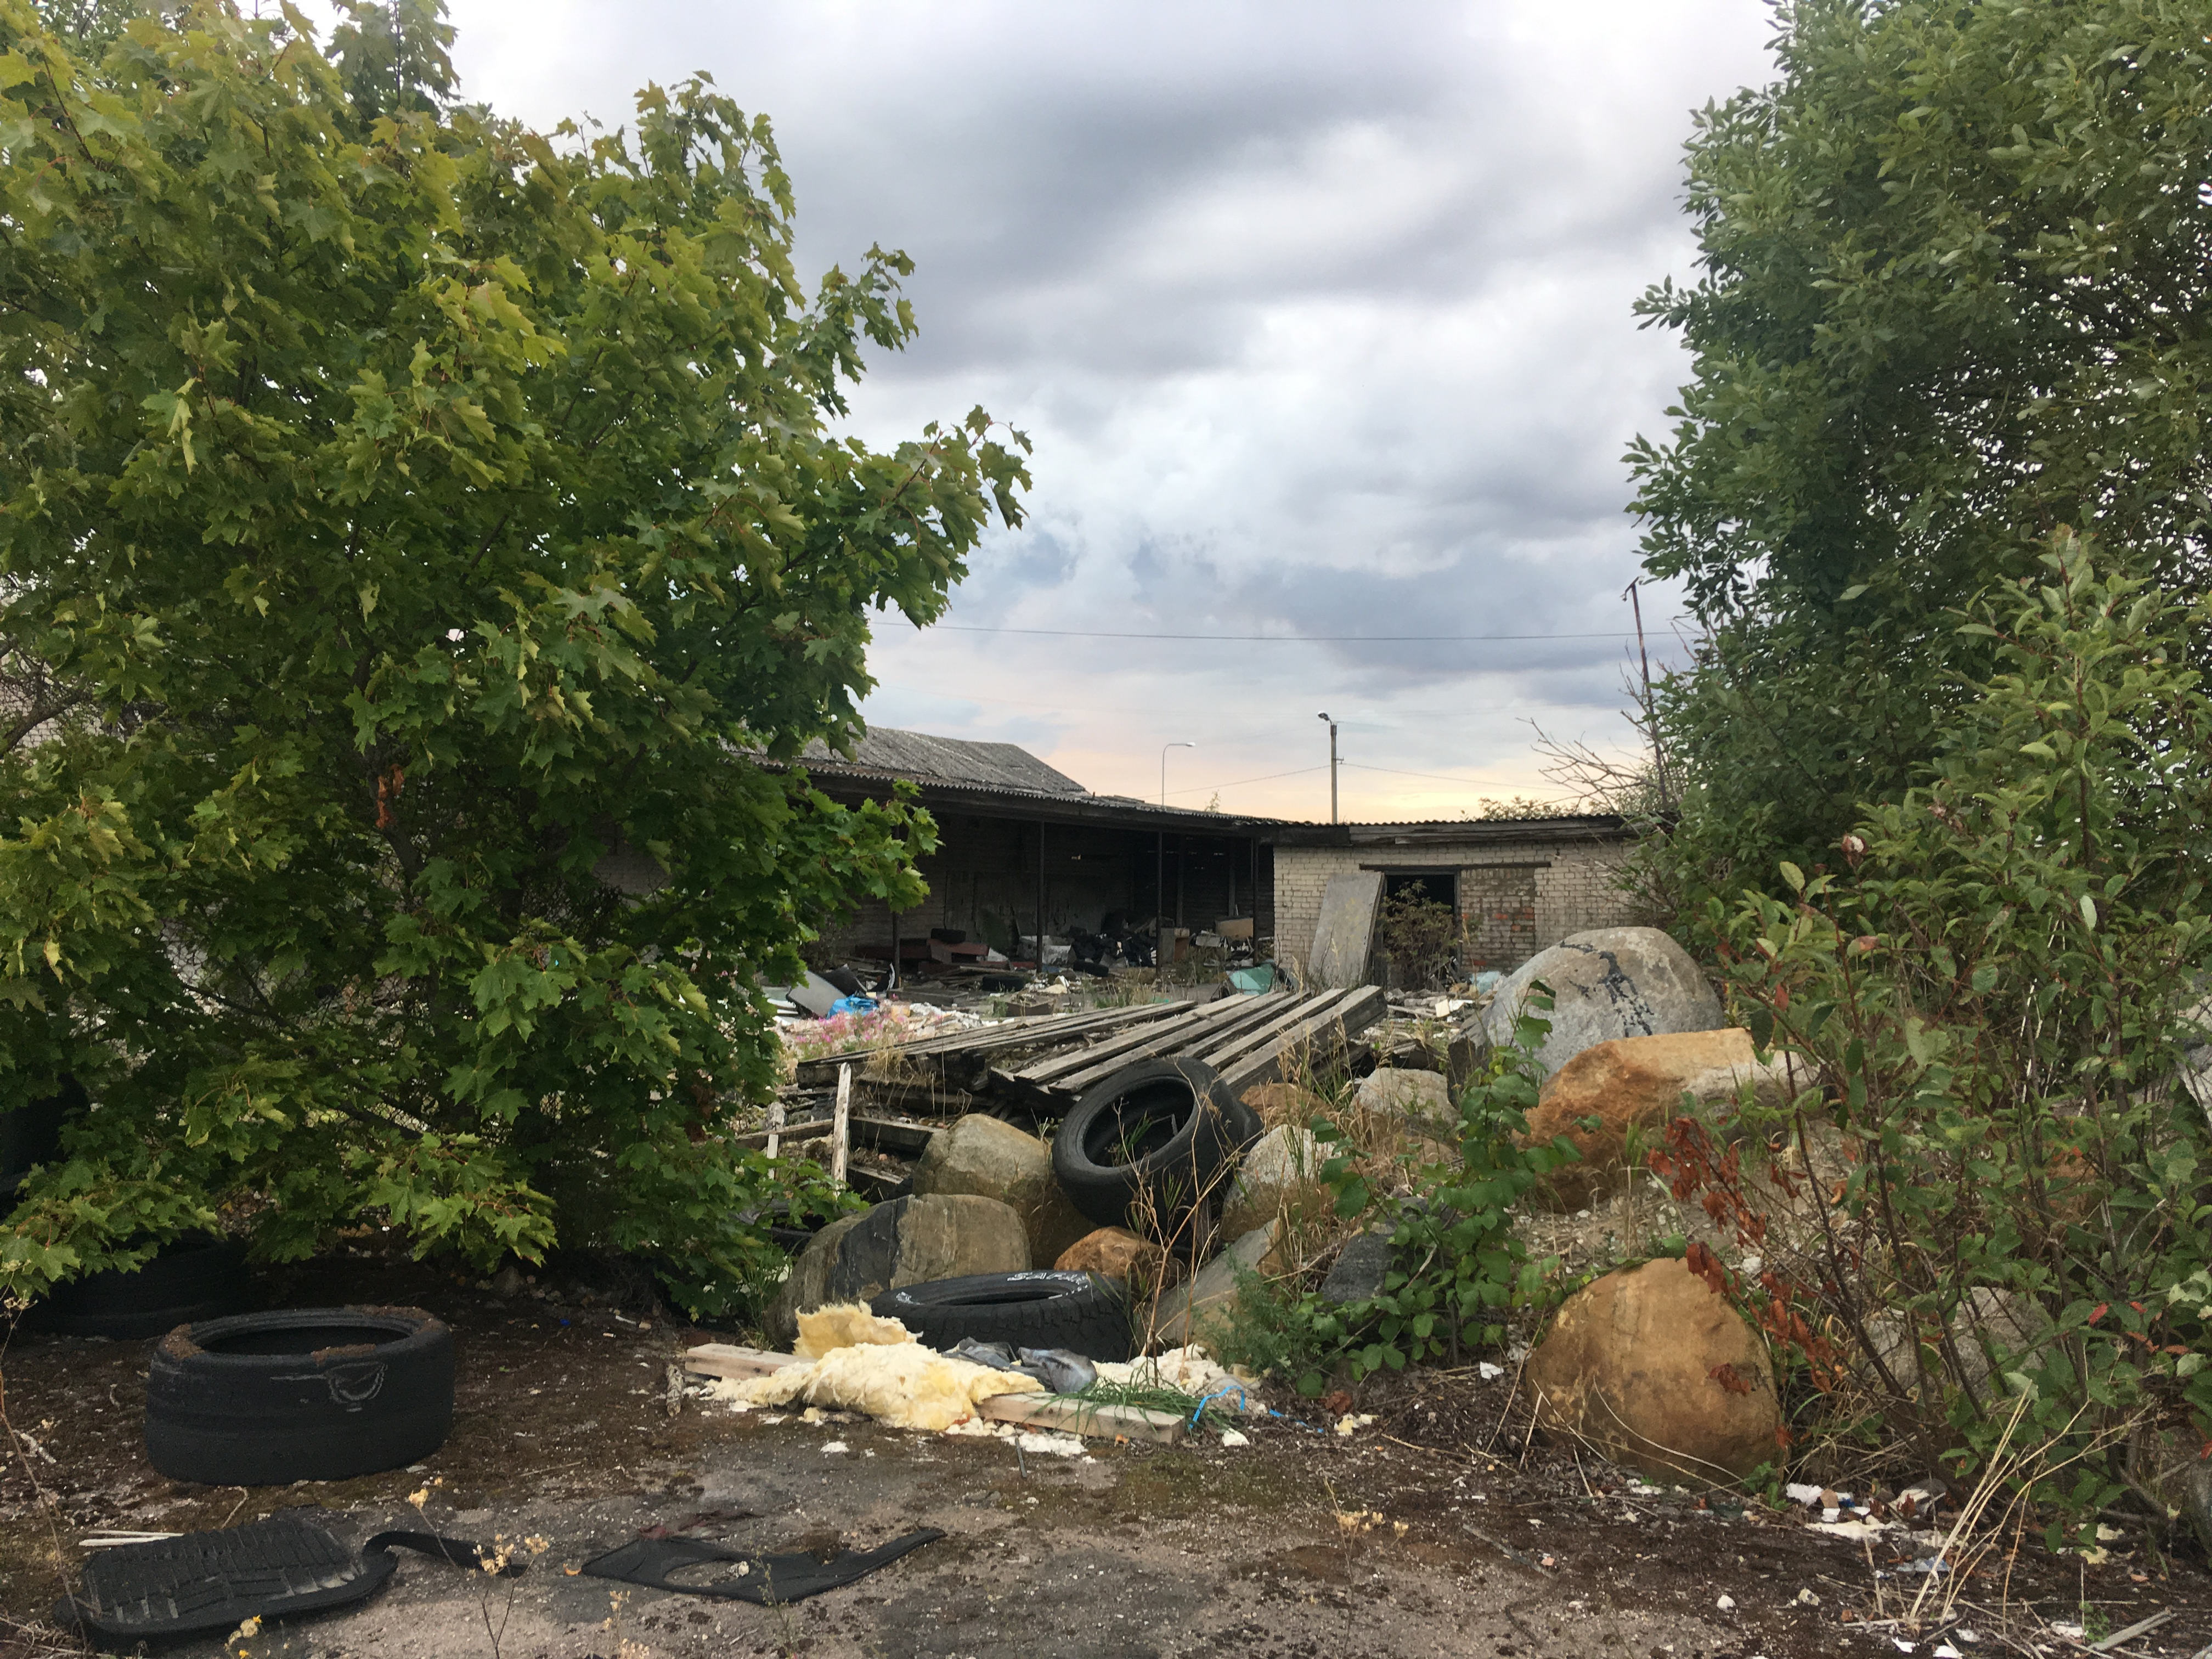trash: (723, 915, 1947, 1511), (54, 1279, 496, 1635)
